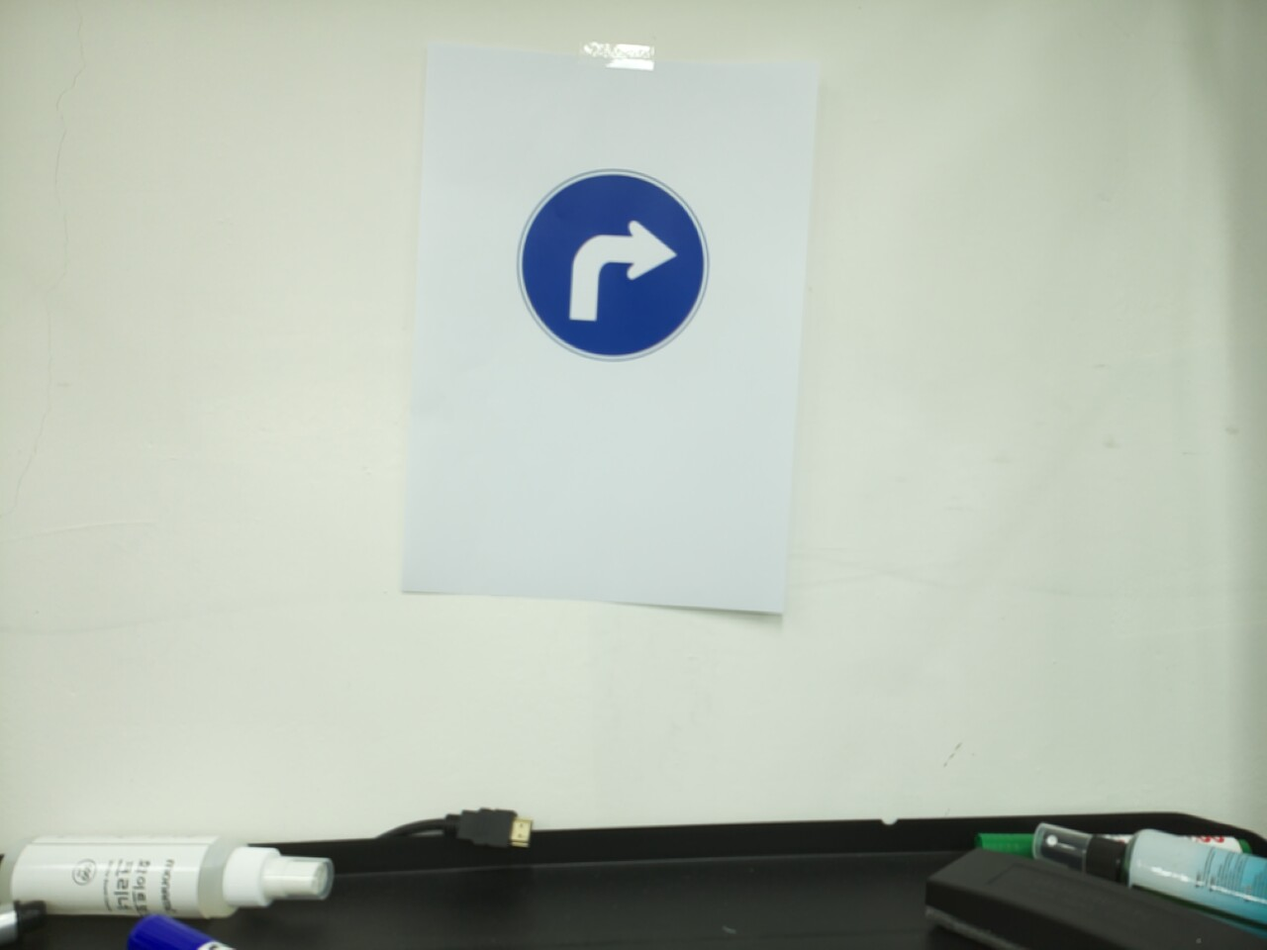right_turn: (515, 167, 711, 363)
